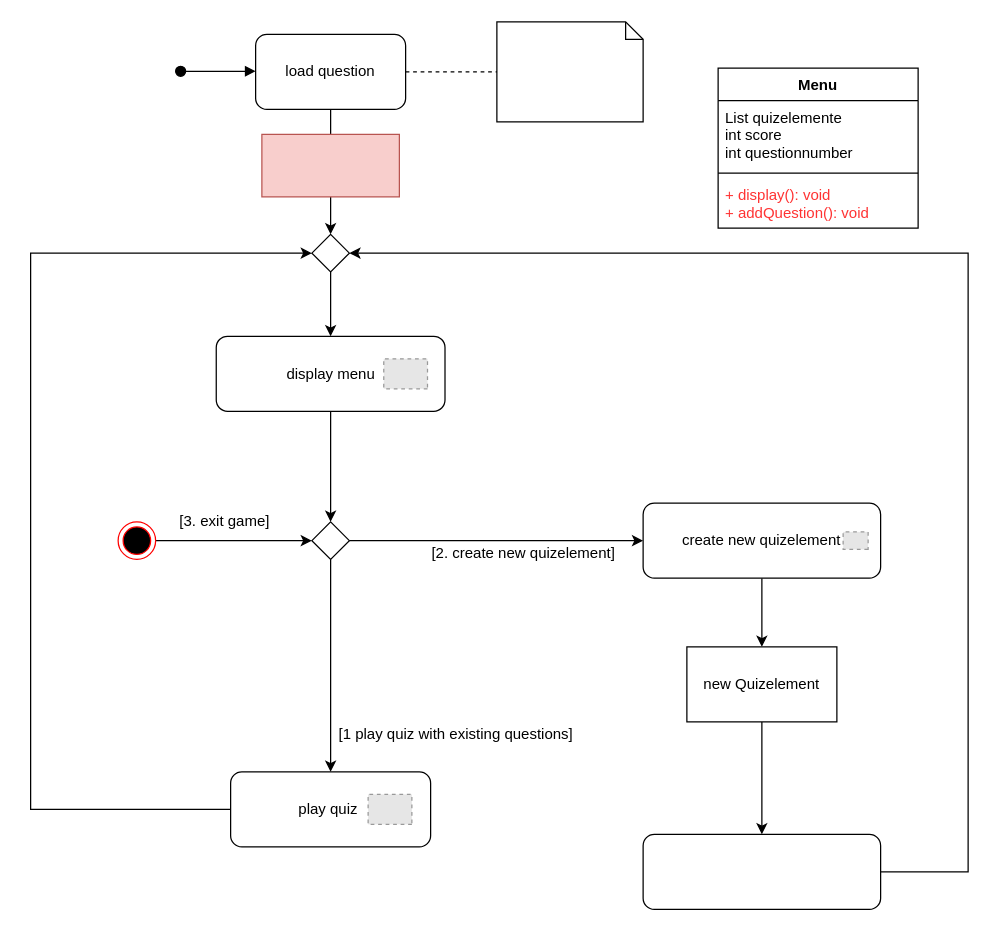
The diagram is 1000 pixels wide and 931 high, and some of its shapes have lost their labels. Grey dashed boxes stand in for pictures. The centre of each missing label's shape, as x and y in pixels:
existing questions saved in a List<quizelemente>: the point at 569,71
int score int questionnumber: the point at 330,165
save quizelement in List: quizelemente: the point at 761,871
